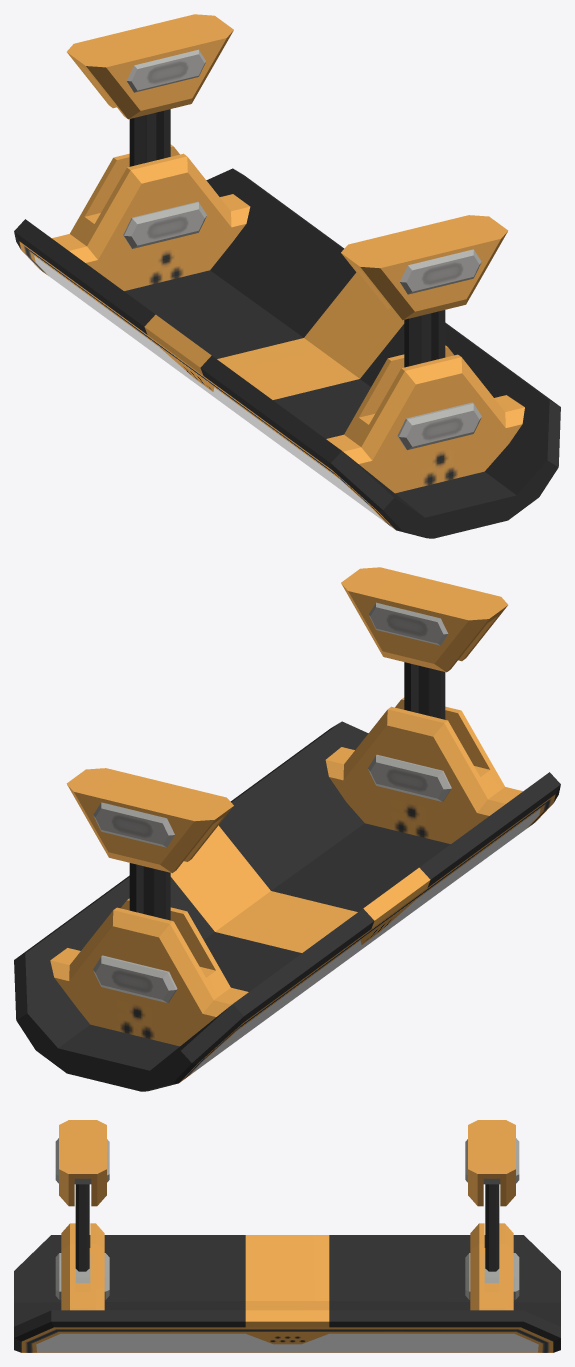
The model's file is worlds_SM_Bld_Light_12.gltf.
The picture shows the model from 3 angles, top to bottom: view 1: azimuth 30°, elevation 25°; view 2: azimuth 150°, elevation 25°; view 3: azimuth 270°, elevation 25°; orthographic projection. The views are drawn at different scales.
Parts seen in each view (by area): view 1: SM_Bld_Light_12; view 2: SM_Bld_Light_12; view 3: SM_Bld_Light_12.
Boxes of the visible parts, x1,y1,x2,y2 form: SM_Bld_Light_12: (14, 14, 560, 538); SM_Bld_Light_12: (14, 567, 560, 1091); SM_Bld_Light_12: (14, 1120, 560, 1352).
Size of the model in its own units: 0.9433 by 1.01 by 2.6.
1 material, 1 textured.
